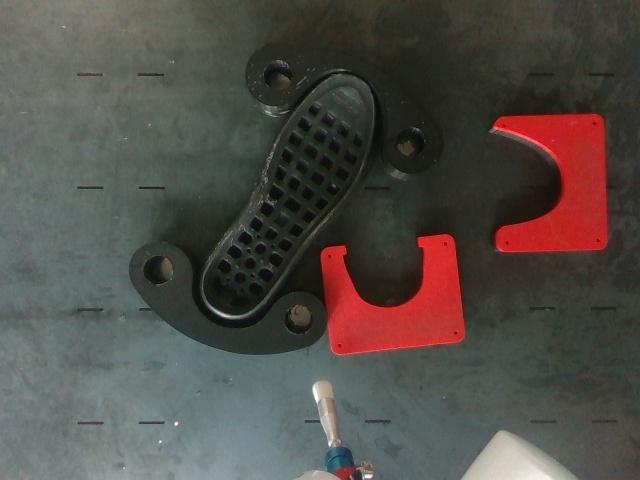shoes: (202, 75, 374, 316)
